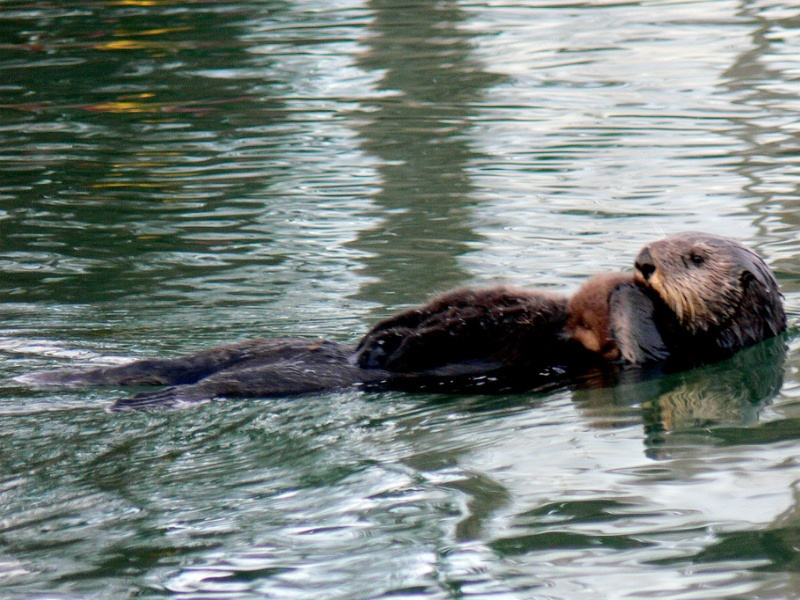minkish: (39, 234, 787, 412)
